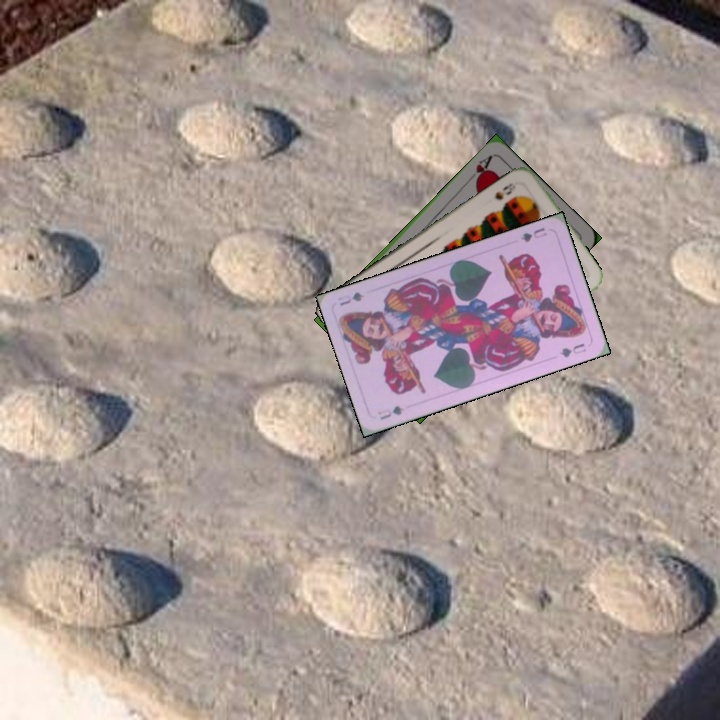GU: (516, 223, 549, 245), (374, 401, 407, 422)
HA: (471, 151, 496, 186)
S8: (490, 179, 518, 203)
